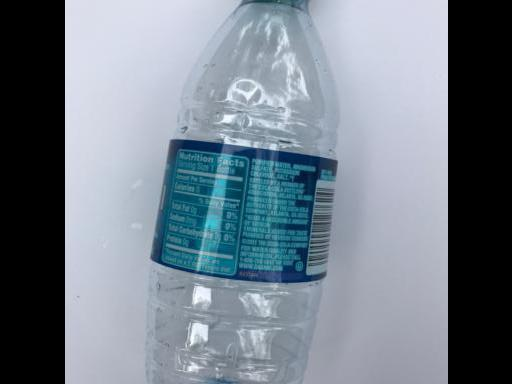bottle: (137, 0, 346, 384)
